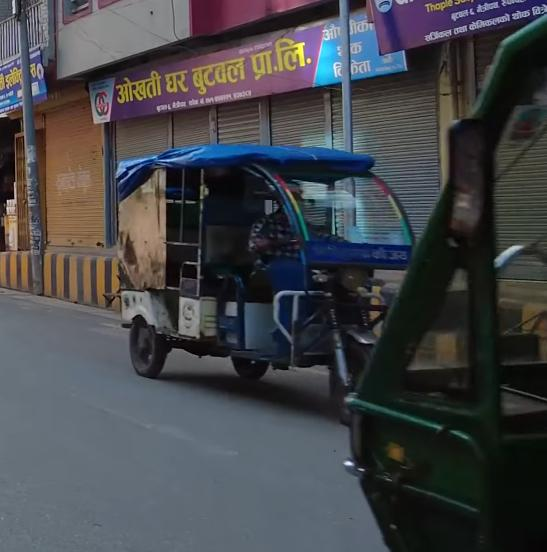e-rickshaw: (112, 148, 422, 419)
